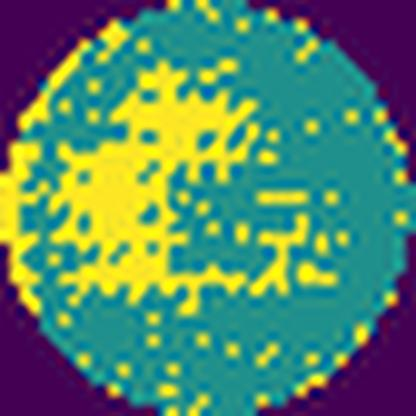Donut: (0, 32, 346, 301)
